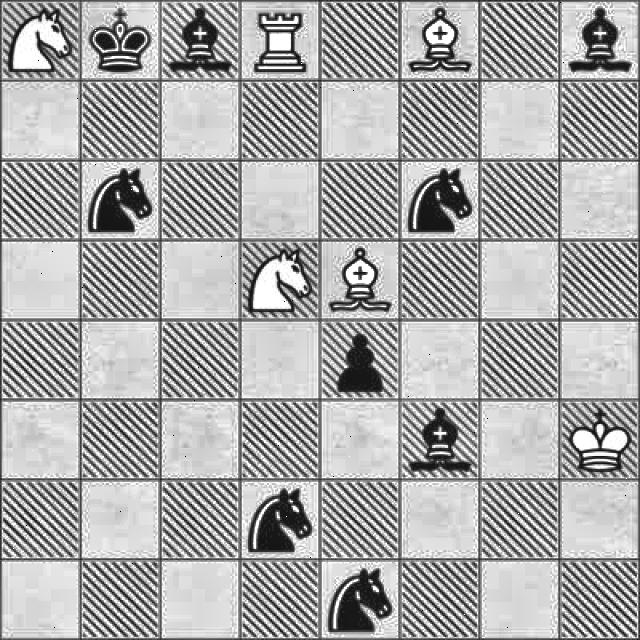Black Knight: (322, 561, 399, 640), (401, 164, 477, 236), (84, 165, 157, 238), (246, 482, 314, 555)
black bishop: (402, 401, 474, 477), (566, 5, 640, 76), (168, 4, 240, 76)
black king: (84, 5, 158, 79)
black pawn: (332, 327, 390, 399)
white bishop: (322, 242, 396, 317), (407, 8, 472, 74)
white king: (564, 403, 632, 478)
white rook: (246, 7, 310, 78)
whiteknight: (5, 2, 77, 80), (246, 241, 314, 313)
